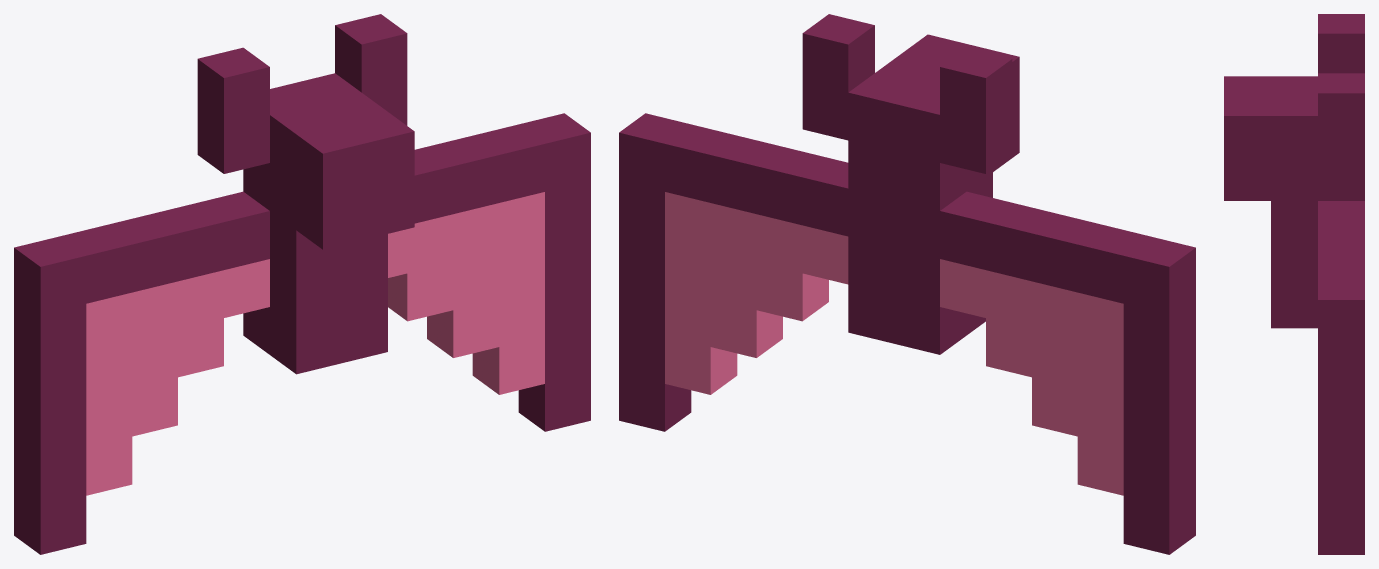
Rendered from bat_idle_0.obj.
3 renders of one model, left to right at view 1: azimuth 30°, elevation 25°; view 2: azimuth 150°, elevation 25°; view 3: azimuth 270°, elevation 25°, orthographic. The views are drawn at different scales.
Bounding box in the file's own units: 1.2 × 0.9 × 0.3.
1 material, 1 textured.
